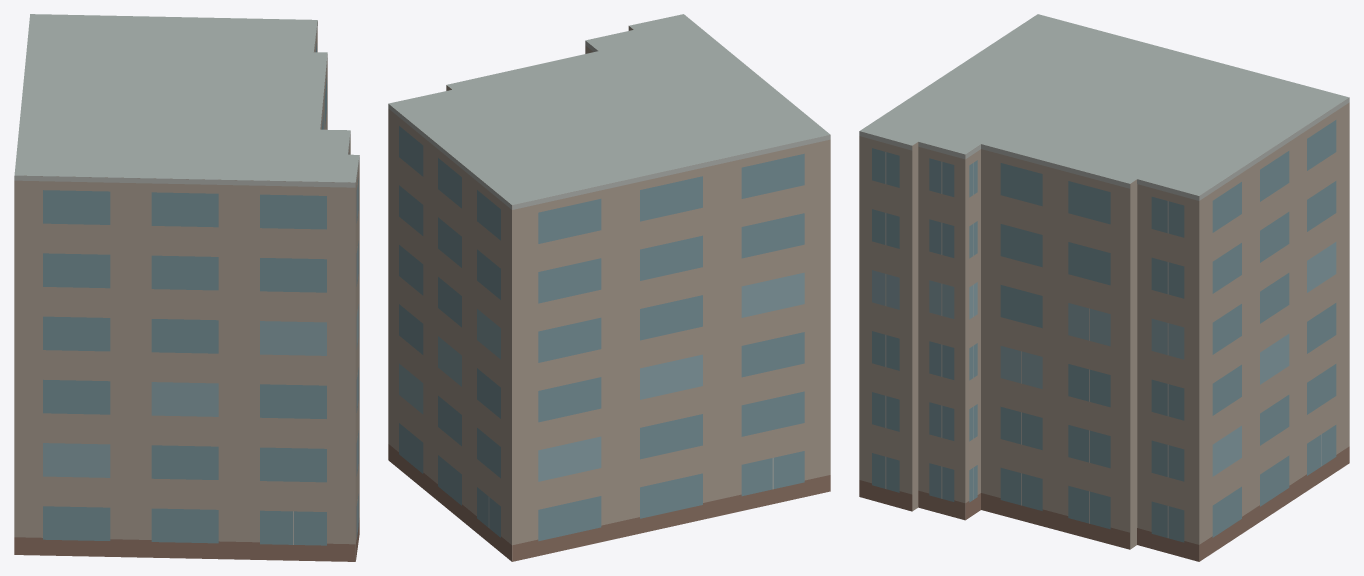
File: survey-upis-32577691.glb
3 views of the same model, side by side, from view 1: azimuth 30°, elevation 25°; view 2: azimuth 150°, elevation 25°; view 3: azimuth 270°, elevation 25° (orthographic). The views are drawn at different scales.
Visible parts, largest first — view 1: survey-upis-32577691.tmp; view 2: survey-upis-32577691.tmp; view 3: survey-upis-32577691.tmp.
Boxes of the visible parts, box(x1,y1,x2,y2) form: survey-upis-32577691.tmp: box(14, 14, 359, 561); survey-upis-32577691.tmp: box(388, 14, 830, 561); survey-upis-32577691.tmp: box(859, 14, 1349, 561).
Bounding box in the file's own units: 19.33 × 18.1 × 21.98.
